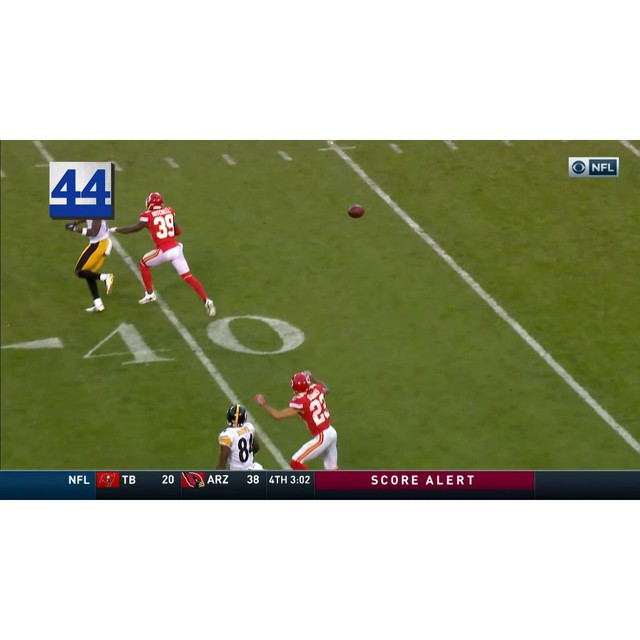american-football-player: (114, 191, 216, 317), (256, 370, 339, 472), (65, 221, 116, 312), (215, 405, 264, 472)
